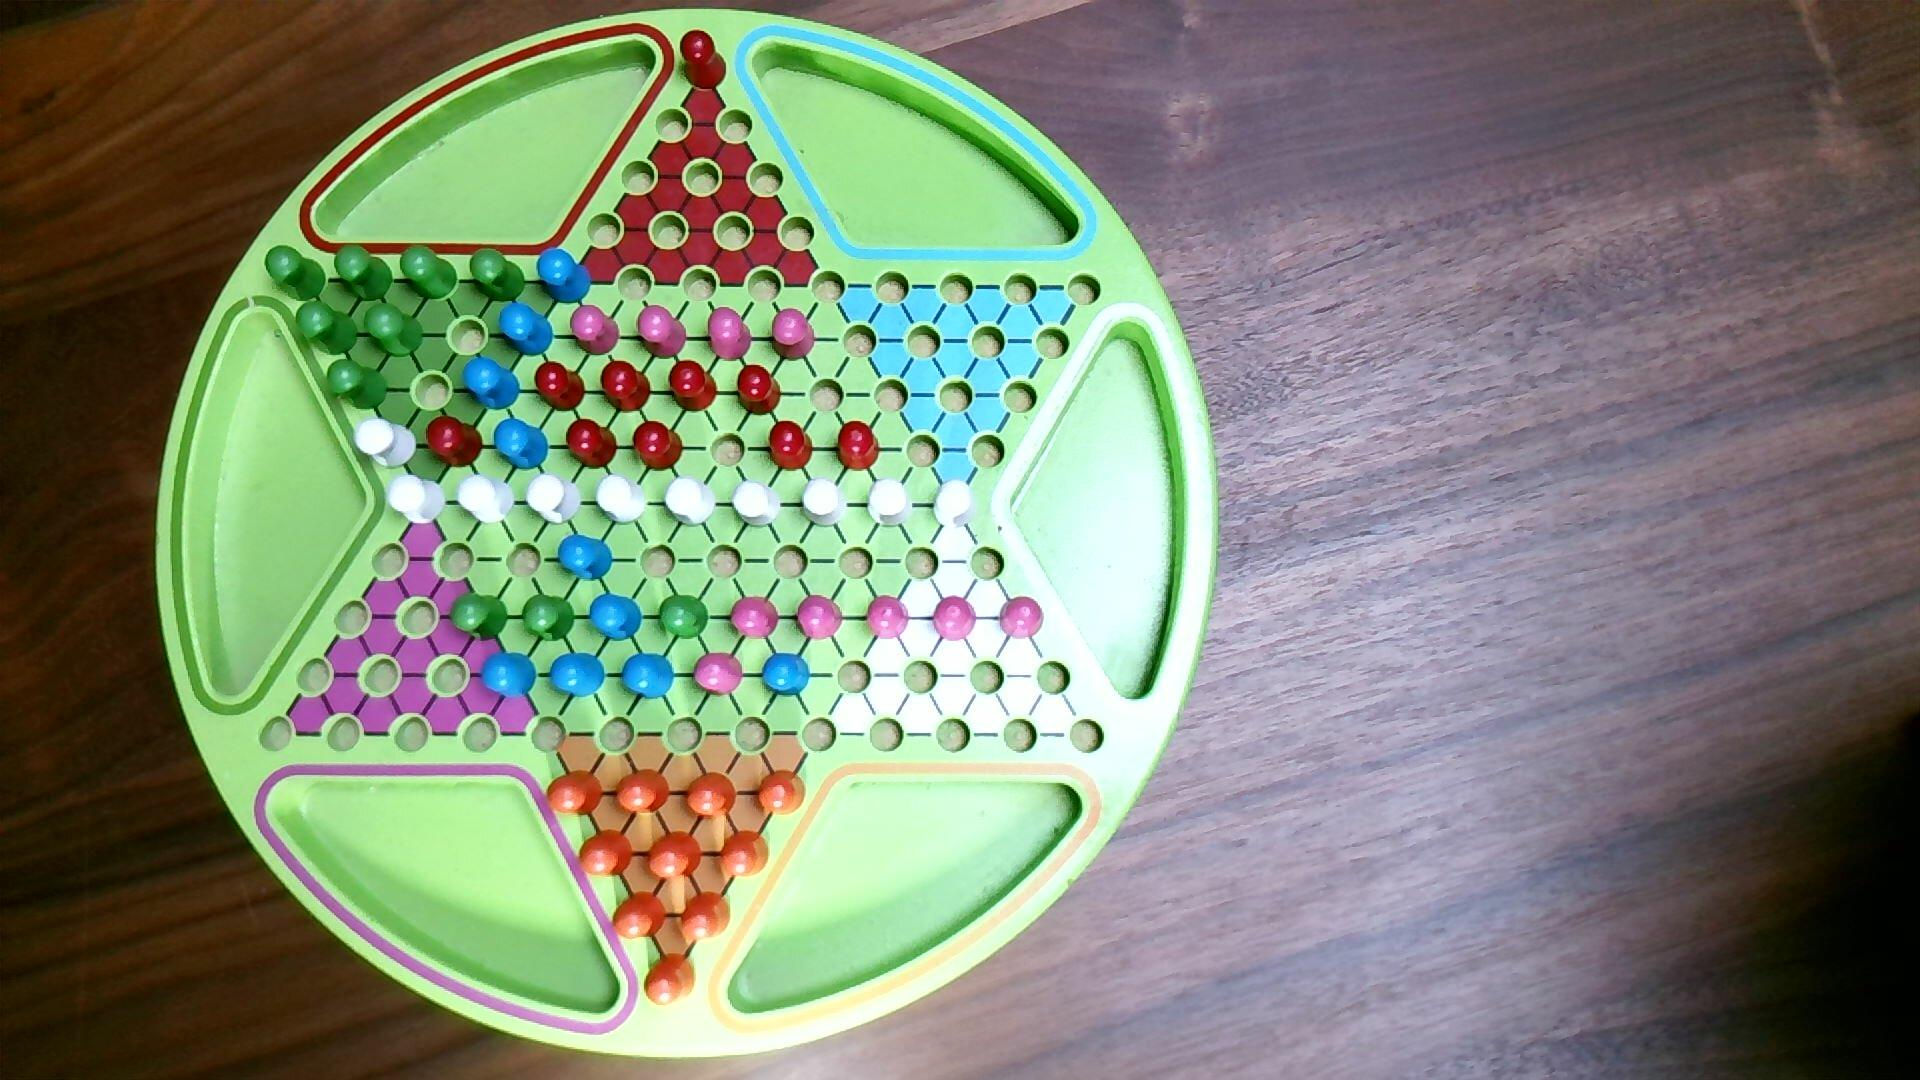B: (497, 301, 556, 360), (492, 415, 553, 473), (535, 247, 593, 306), (462, 356, 522, 411), (479, 649, 539, 703), (556, 531, 615, 584), (618, 651, 676, 703), (549, 651, 607, 700), (588, 593, 644, 644), (760, 651, 812, 699)
G: (264, 244, 328, 305), (334, 243, 396, 305), (294, 299, 360, 357), (363, 301, 426, 360), (400, 243, 460, 302), (324, 357, 390, 411), (468, 247, 527, 305), (448, 592, 512, 645), (521, 592, 578, 644), (657, 593, 711, 642)
O: (644, 951, 698, 1009), (576, 827, 636, 880), (645, 829, 705, 881), (545, 767, 605, 819), (611, 890, 669, 942), (679, 889, 733, 943), (683, 771, 740, 822), (615, 767, 673, 816), (719, 828, 771, 880), (756, 767, 808, 818)
R: (425, 414, 487, 469), (679, 29, 729, 92), (564, 417, 620, 472), (533, 360, 588, 414), (600, 360, 654, 415), (667, 359, 719, 415), (632, 419, 684, 473), (736, 363, 785, 418), (767, 419, 815, 473), (836, 419, 882, 473)
R2: (636, 305, 690, 361), (568, 303, 622, 357), (705, 305, 754, 364), (769, 306, 818, 364), (794, 593, 845, 644), (728, 595, 782, 642), (692, 651, 746, 698), (864, 593, 913, 644), (998, 593, 1047, 642), (931, 593, 978, 644)
W: (352, 417, 421, 471), (385, 473, 448, 527), (662, 473, 720, 530), (525, 472, 584, 527), (456, 473, 517, 527), (593, 472, 650, 527), (731, 477, 783, 530), (865, 476, 915, 531), (799, 476, 849, 530), (931, 479, 978, 531)
